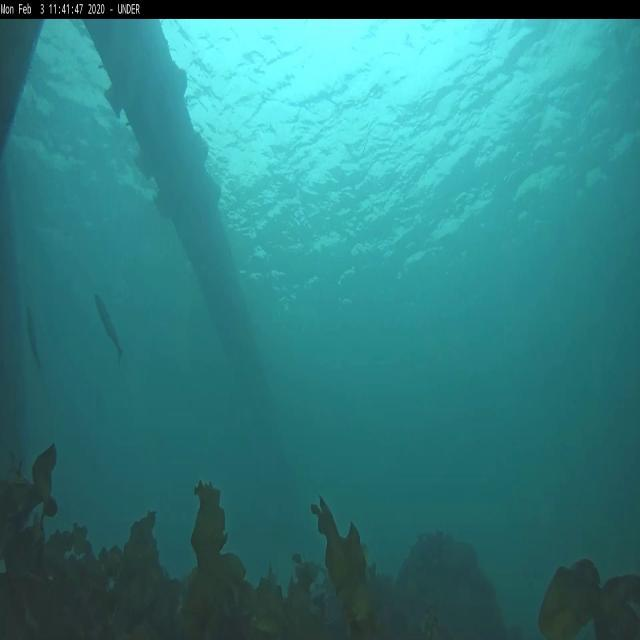fish: (95, 293, 124, 364), (24, 305, 44, 375)
